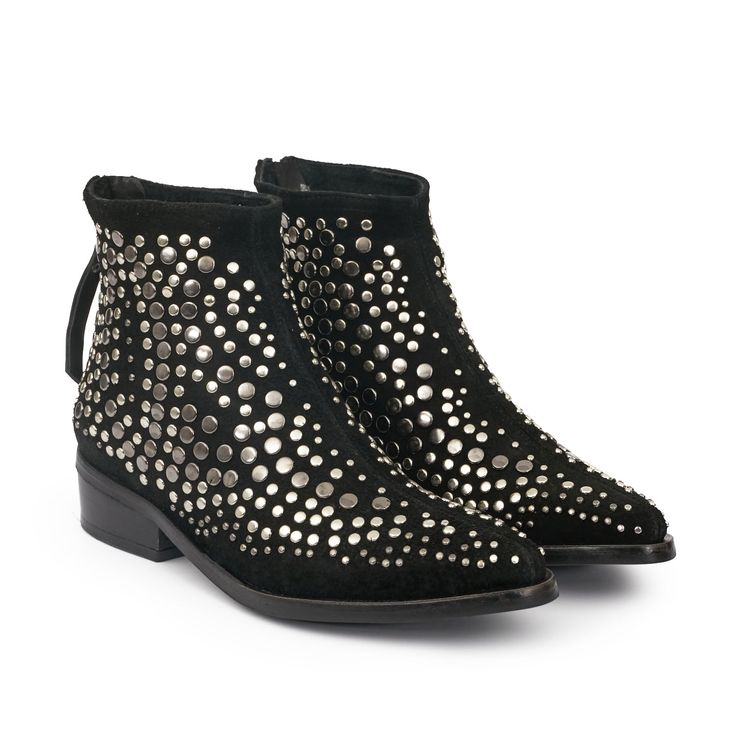gamuza: (75, 156, 667, 602)
